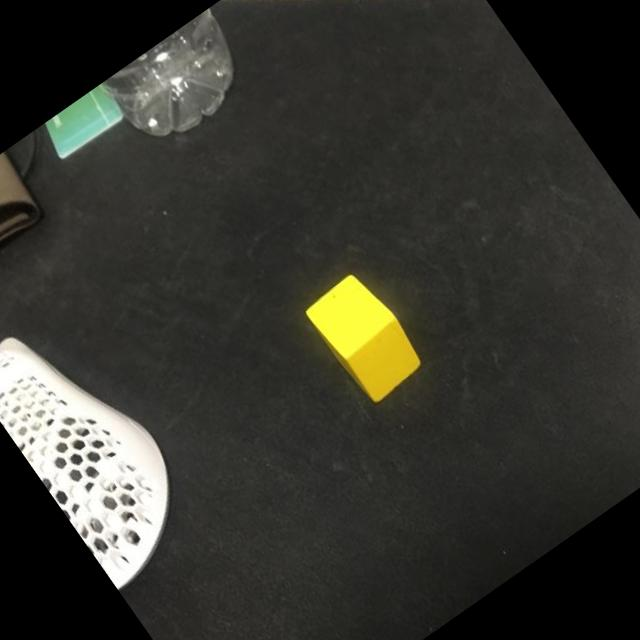yellow: (300, 266, 431, 408)
